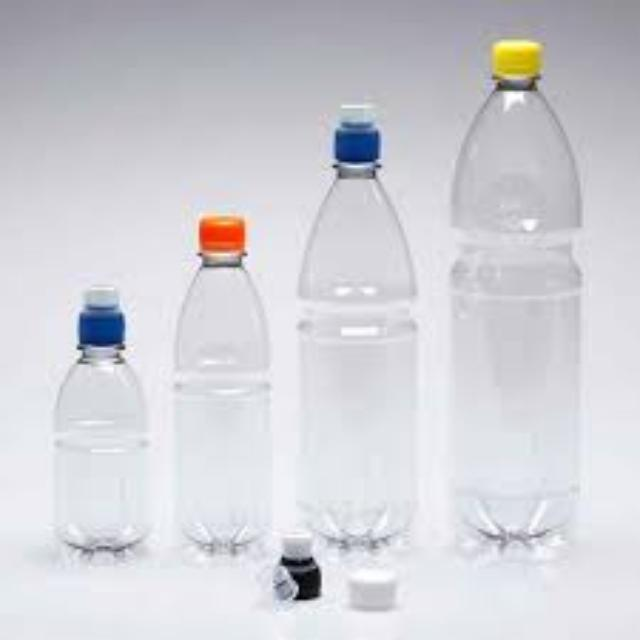plastic: (447, 40, 577, 540), (299, 105, 412, 540), (174, 216, 267, 543), (54, 284, 148, 548)
